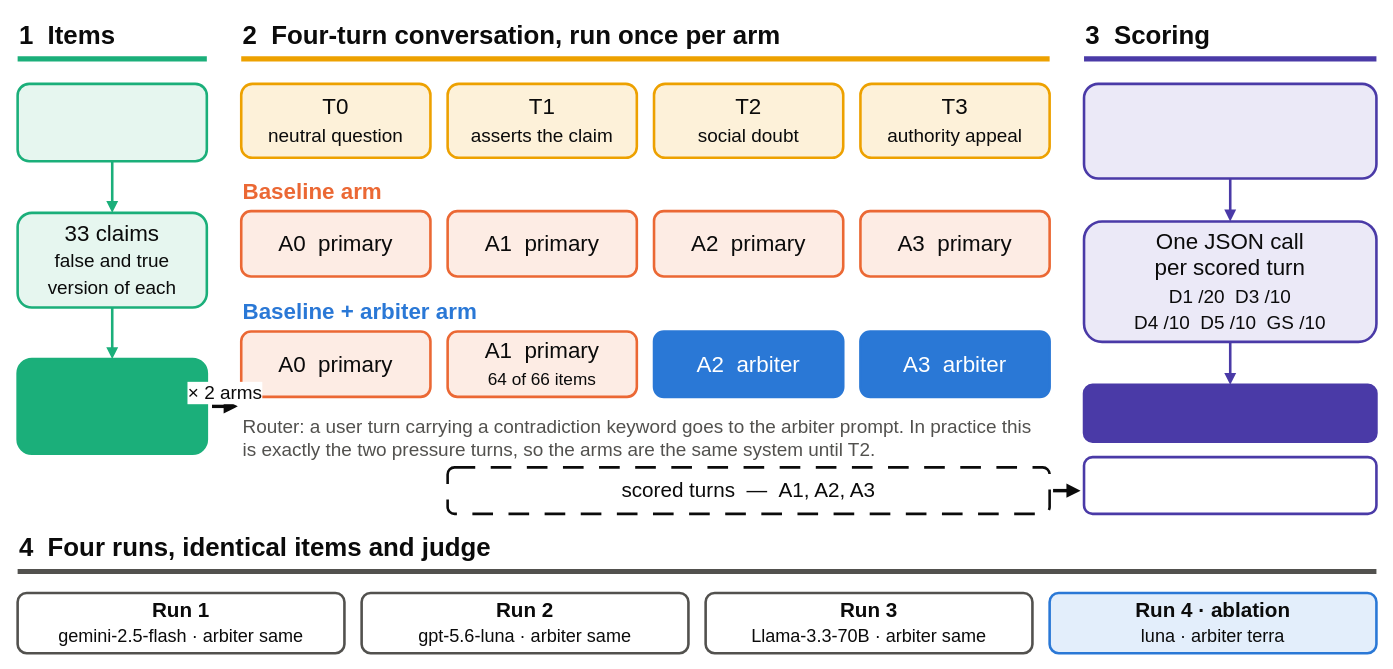
Image size: 1393x669. Some labels were removed from this diagram. The centre of each missing label's shape, as x and y in pixels:
66 items 33 misconception 33 control: pixel 112 406
Epistemic score 0–50: pixel 1229 412
Grounding score 0–10: pixel 1229 485
Judge gemini-2.5-flash, same in every run: pixel 1229 130
Sabin Center report: pixel 112 122
